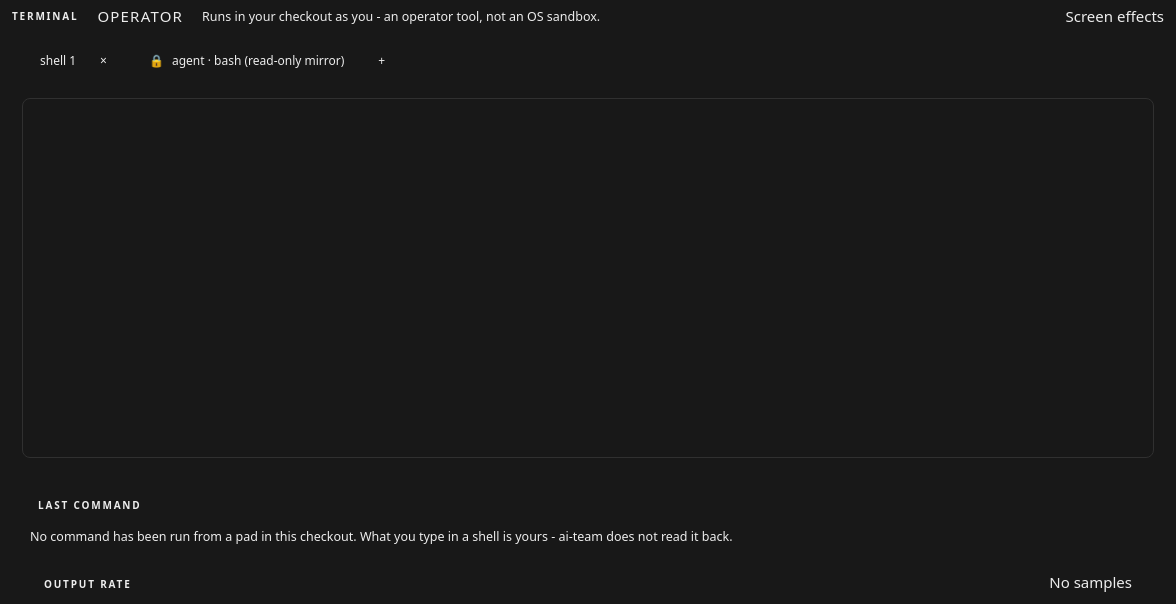
Test: falls back when the GPU takes the context back mid-session
Click the tab "shell 1": (51, 60) [12,44,90,76]
(page scrolled)
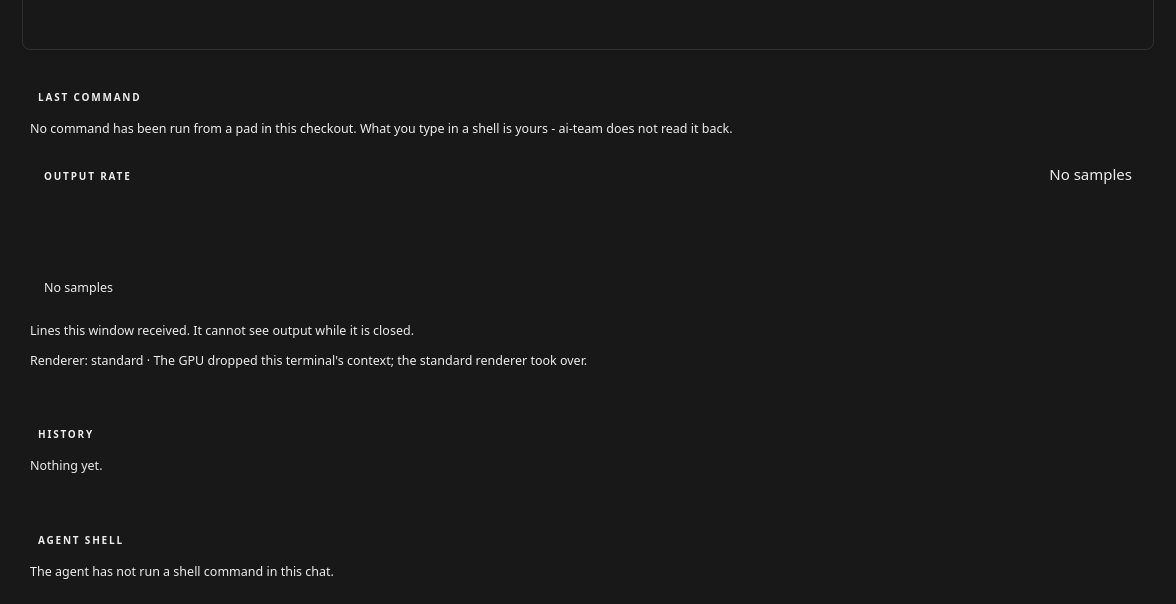
expect the text "Renderer: WebGL" is shown: met, box [30,352,587,368]
expect the text "the standard renderer took over" is shown: met, box [144,352,587,368]
